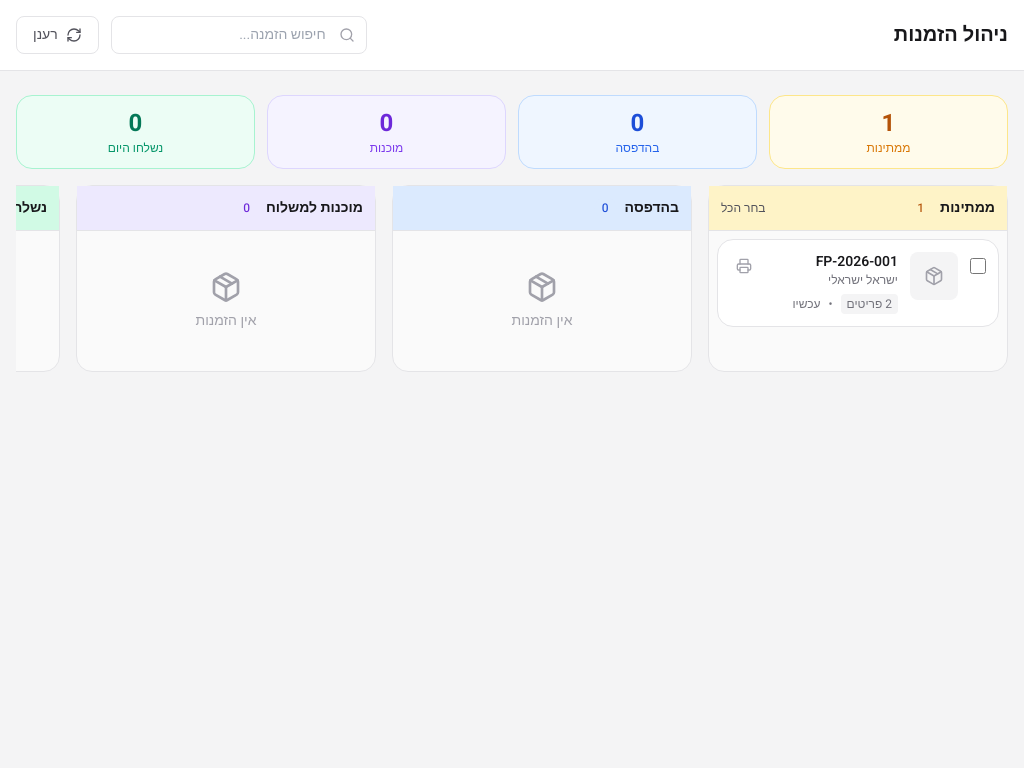
it: Admin Fulfillment Page › Order Detail Panel › should close panel when close button clicked
This screenshot has width=1024, height=768.
Open panel
Click the text "FP-2026-001".
click(857, 262)  # box left=816, top=252, right=898, bottom=272
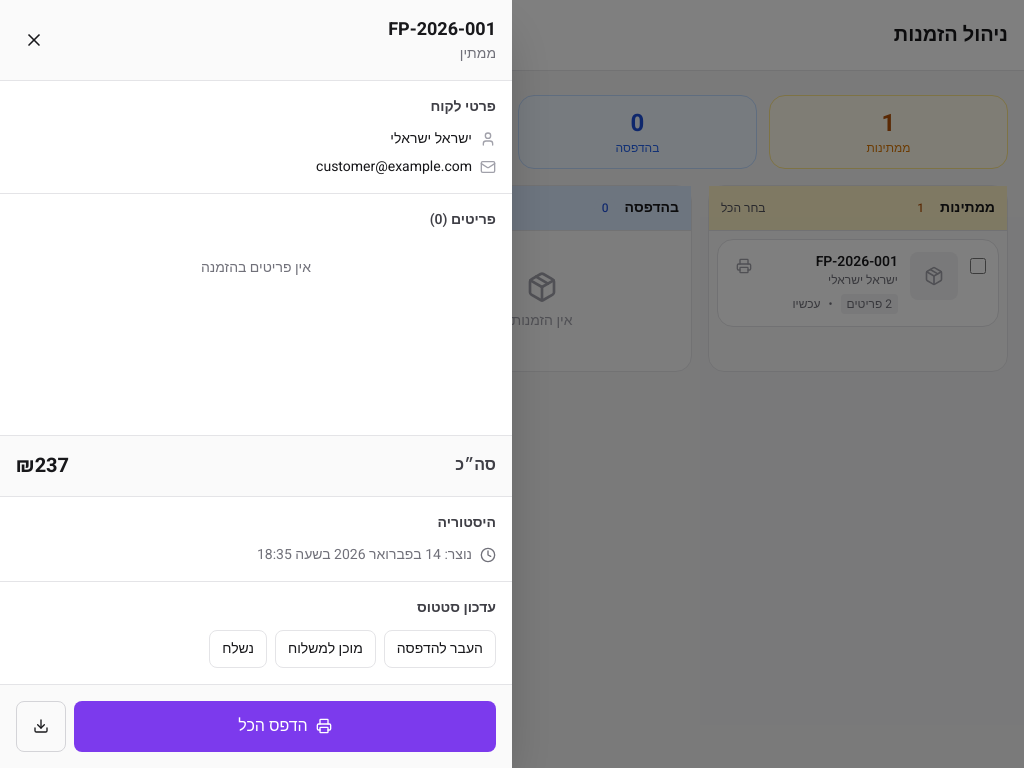
Check: the element with test id "order-detail-panel" is shown, box left=0, top=0, right=512, bottom=767
Close panel
Click the button with test id "close-button".
click(34, 40)  # box left=16, top=22, right=52, bottom=58
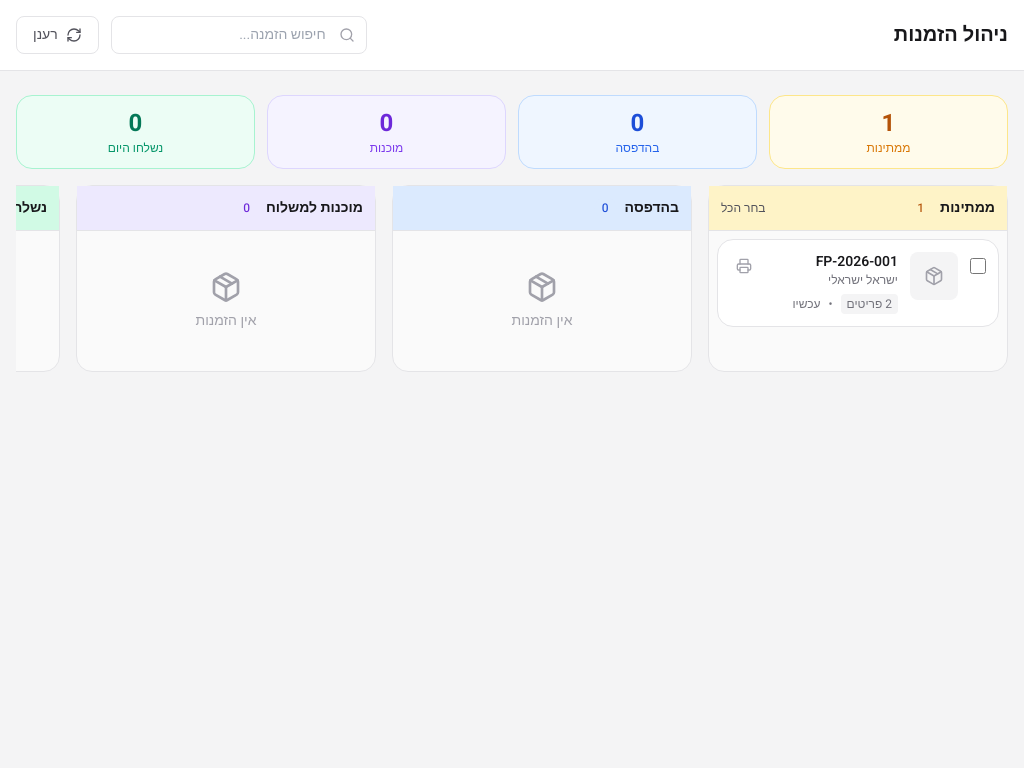
Check: the element with test id "order-detail-panel" is gone
